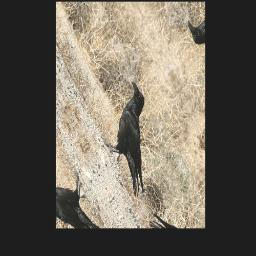Crow: (94, 78, 175, 203)
